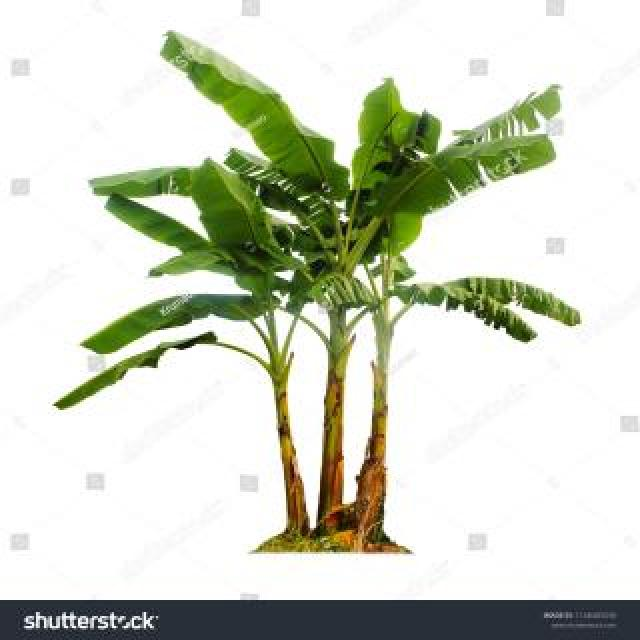Pisang: (62, 26, 581, 549)
